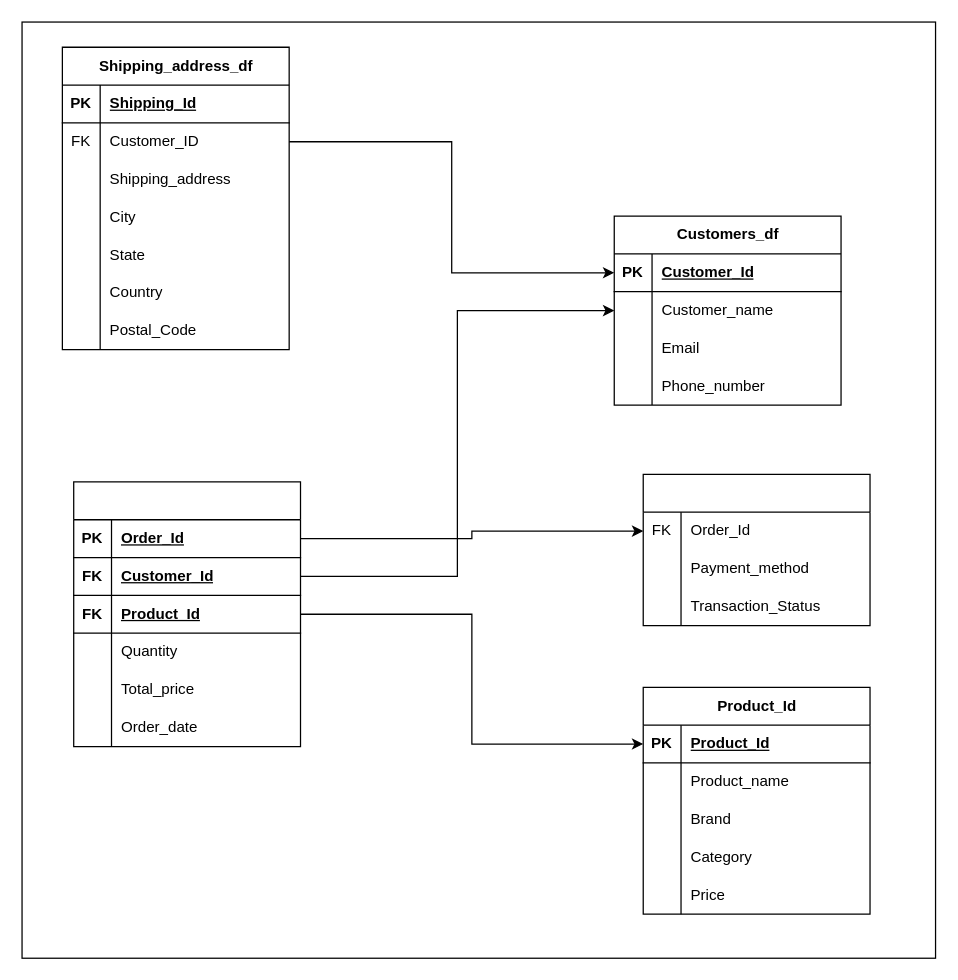
Some shapes in this 958 by 980 pixel diagram are drawn without their labels. Here are the shapes that lost their labels. From the top down, the box of each, then its label:
(642, 473, 870, 626): Payment_df
(72, 481, 301, 747): Order_df
